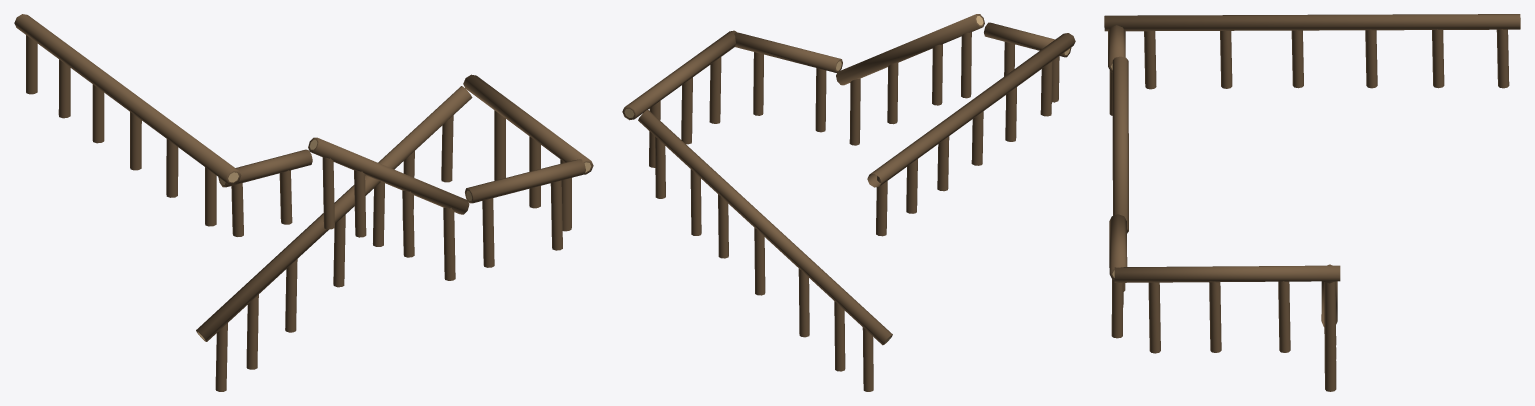
File: rpgpp_ag_stairs_interior_01e_3m_handrail_01.fbx
The picture shows the model from 3 angles, left to right: view 1: azimuth 30°, elevation 25°; view 2: azimuth 150°, elevation 25°; view 3: azimuth 270°, elevation 25°; orthographic projection. The views are drawn at different scales.
Visible parts, largest first — view 1: rpgpp_ag_stairs_interior_01e_3m_handrail_01; view 2: rpgpp_ag_stairs_interior_01e_3m_handrail_01; view 3: rpgpp_ag_stairs_interior_01e_3m_handrail_01.
Part boxes in pixels (<box>): rpgpp_ag_stairs_interior_01e_3m_handrail_01: <box>14,14,593,391</box>; rpgpp_ag_stairs_interior_01e_3m_handrail_01: <box>622,14,1075,391</box>; rpgpp_ag_stairs_interior_01e_3m_handrail_01: <box>1104,14,1520,391</box>.
Bounding box in the file's own units: 4.3 × 3.67 × 4.22.
